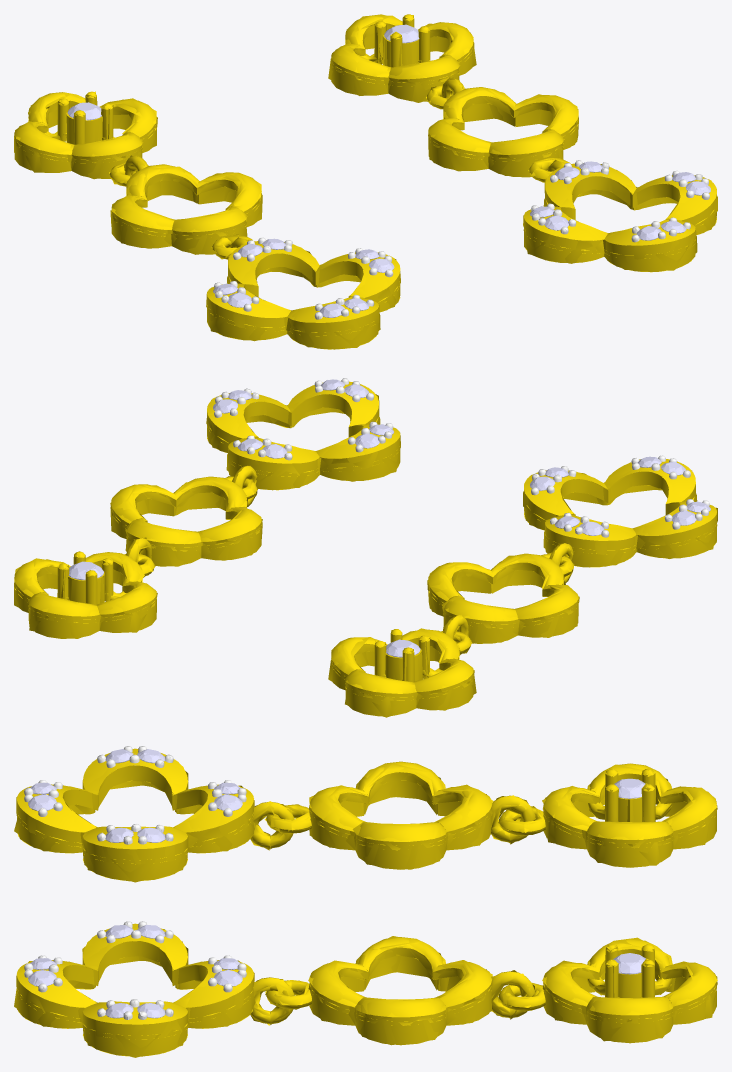
The picture shows the model from 3 angles, top to bottom: view 1: azimuth 30°, elevation 25°; view 2: azimuth 150°, elevation 25°; view 3: azimuth 270°, elevation 25°; orthographic projection. The views are drawn at different scales.
Parts seen in each view (by area): view 1: highPolyMesh, lowPolyMesh; view 2: highPolyMesh, lowPolyMesh; view 3: highPolyMesh, lowPolyMesh.
Boxes of the visible parts, x1,y1,x2,y2 form: highPolyMesh: (14, 14, 716, 349); lowPolyMesh: (14, 15, 717, 349); highPolyMesh: (14, 378, 716, 716); lowPolyMesh: (14, 378, 717, 717); highPolyMesh: (17, 746, 716, 1056); lowPolyMesh: (14, 746, 717, 1057).
Size of the model in its own units: 0.0298 by 0.00369 by 0.0319.
